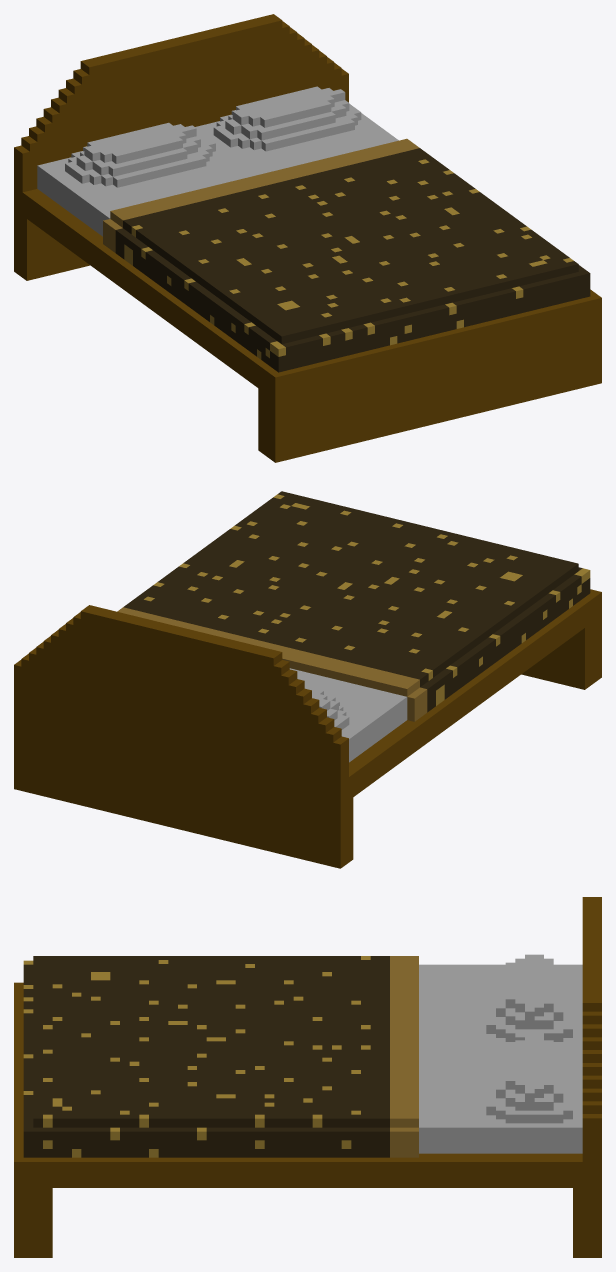
File: Bed_0.obj
The picture shows the model from 3 angles, top to bottom: view 1: azimuth 30°, elevation 25°; view 2: azimuth 150°, elevation 25°; view 3: azimuth 270°, elevation 25°; orthographic projection. The views are drawn at different scales.
Bounding box in the file's own units: 4.4 × 2.5 × 6.1.
Materials: 1 (1 with a texture image).
